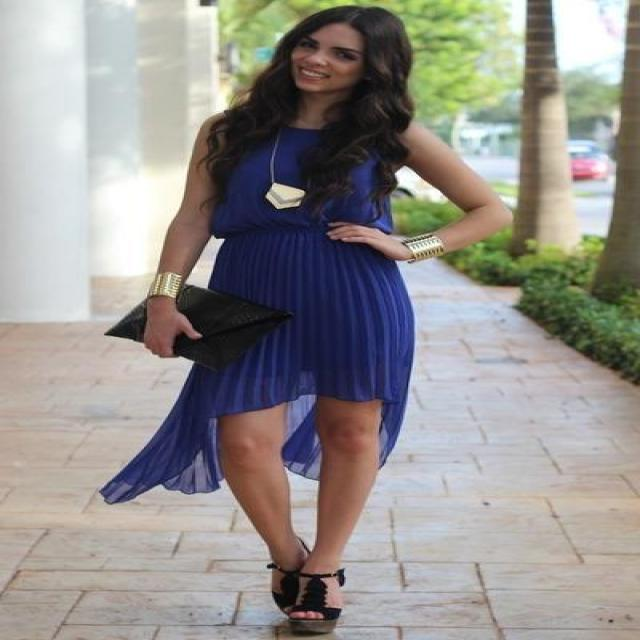bag: (104, 278, 280, 364)
dress: (99, 127, 413, 503)
shoe: (267, 556, 344, 616)
